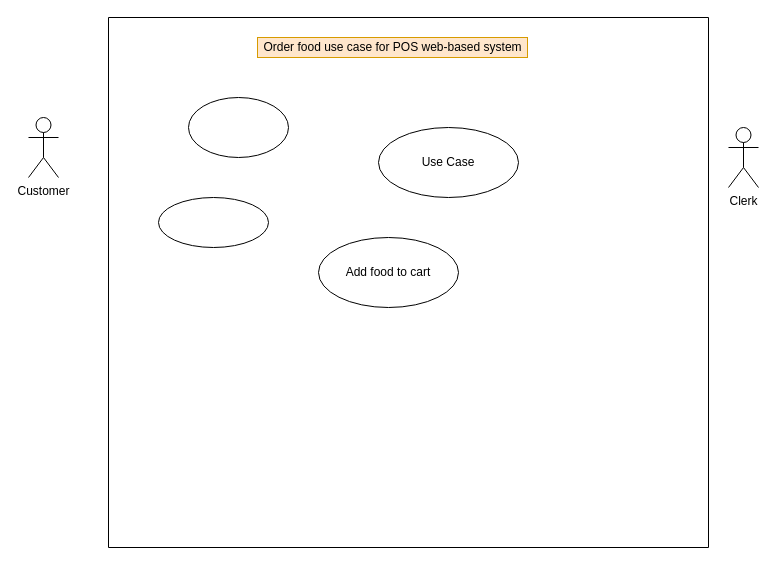
Image size: 776x565. Some labels were removed from this diagram. The centre of each missing label's shape, as x and y in pixels:
"Access Pos website" belongs at point (238, 127).
"Select meal" belongs at point (213, 222).
